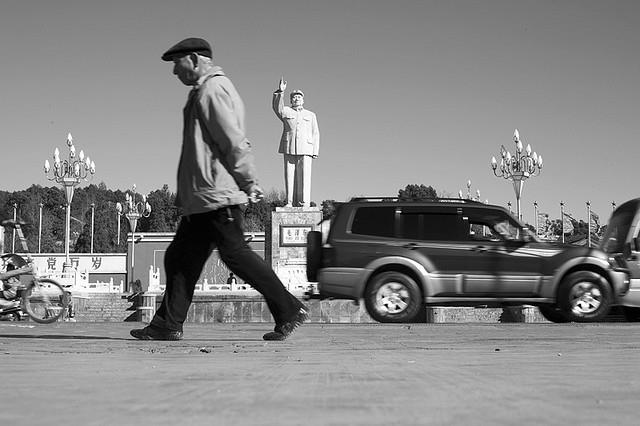Chairman_Mao_Statue: (273, 71, 322, 225)
